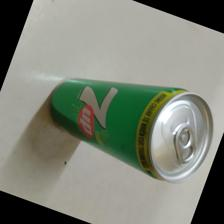7up: (48, 77, 213, 184)
